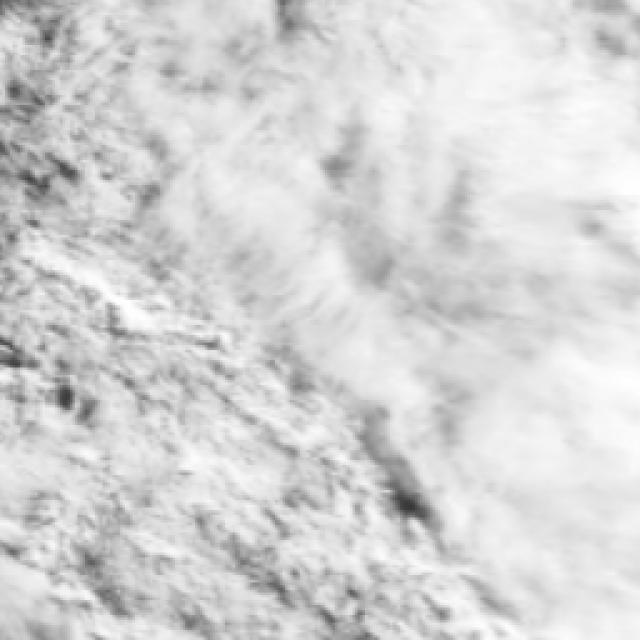CB: (412, 11, 637, 192), (485, 309, 640, 493)
